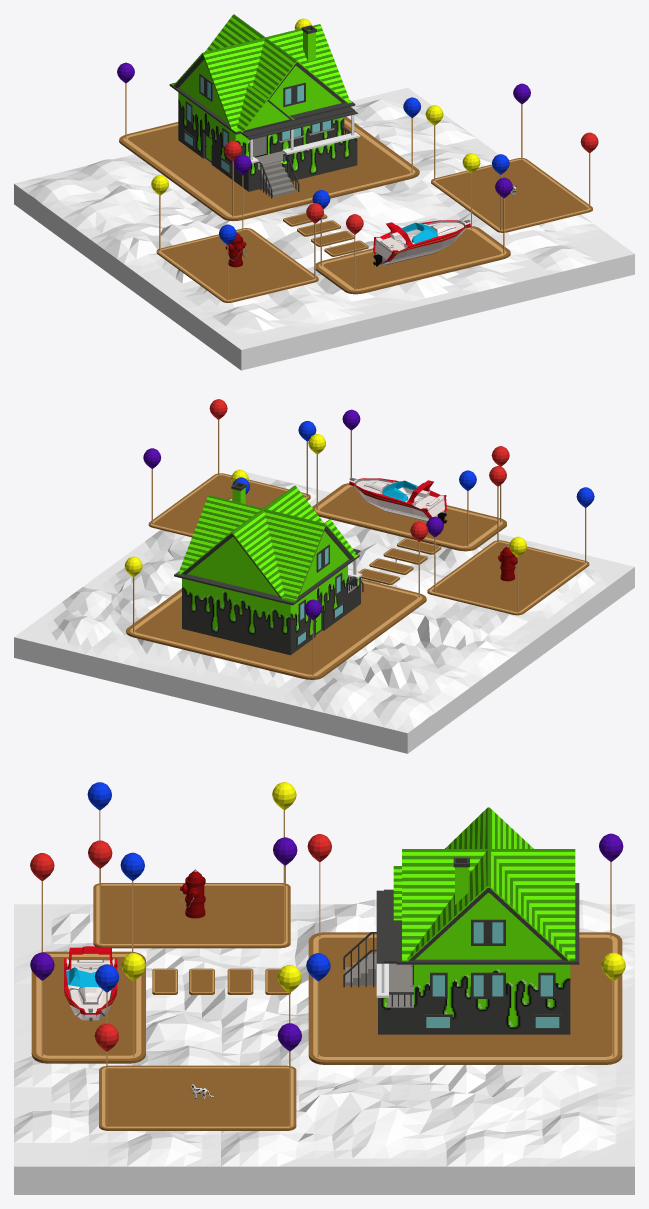
The picture shows the model from 3 angles, top to bottom: view 1: azimuth 30°, elevation 25°; view 2: azimuth 150°, elevation 25°; view 3: azimuth 270°, elevation 25°; orthographic projection. The views are drawn at different scales.
Parts seen in each view (by area): view 1: Cube.013, Cube.754, VEHICLES_BOAT; view 2: Cube.013, Cube.754, VEHICLES_BOAT, OBJRANDOM_FIRE_HYDRANT; view 3: Cube.013, Cube.754, VEHICLES_BOAT, OBJRANDOM_FIRE_HYDRANT.
Boxes of the visible parts, x1,y1,x2,y2 form: Cube.013: (14, 18, 634, 370); Cube.754: (169, 14, 360, 198); VEHICLES_BOAT: (373, 219, 470, 266); Cube.013: (14, 399, 634, 753); Cube.754: (174, 482, 363, 655); VEHICLES_BOAT: (349, 477, 447, 523); OBJRANDOM_FIRE_HYDRANT: (498, 545, 517, 581); Cube.013: (14, 782, 634, 1194); Cube.754: (343, 807, 579, 1034); VEHICLES_BOAT: (64, 946, 117, 1021); OBJRANDOM_FIRE_HYDRANT: (180, 869, 205, 918).
Size of the model in its own units: 4000 by 1690 by 4000.
Materials: 30 (2 with a texture image).
